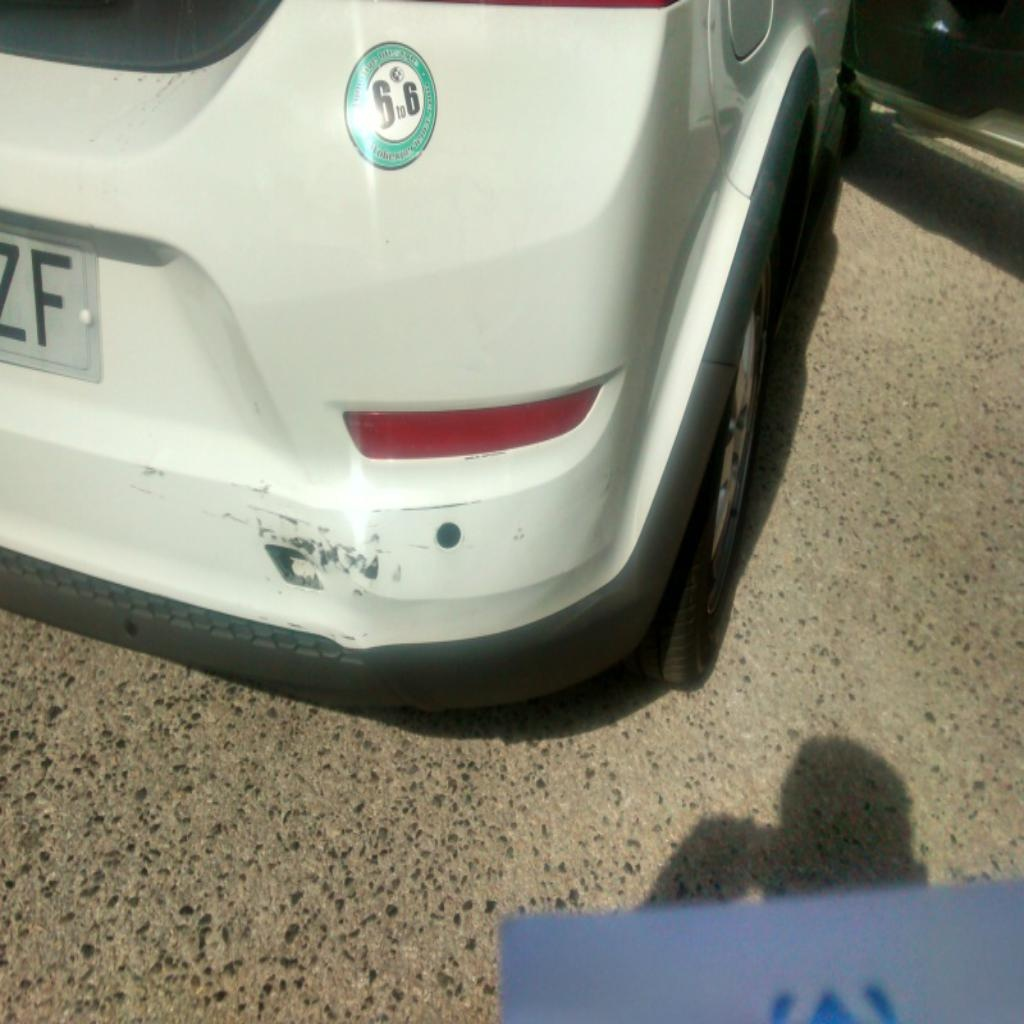Scratch: (235, 517, 421, 601)
